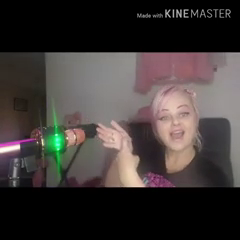R: (94, 116, 141, 188)
